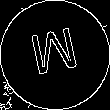M_S: (27, 26, 83, 84)
